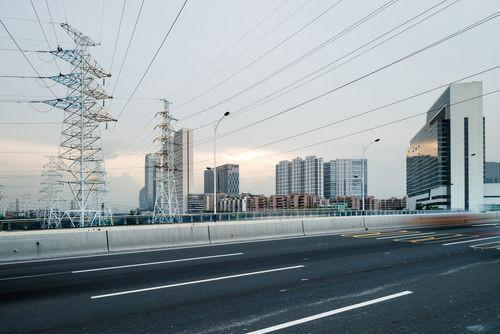power_tower: (46, 16, 116, 226), (151, 93, 185, 229)
